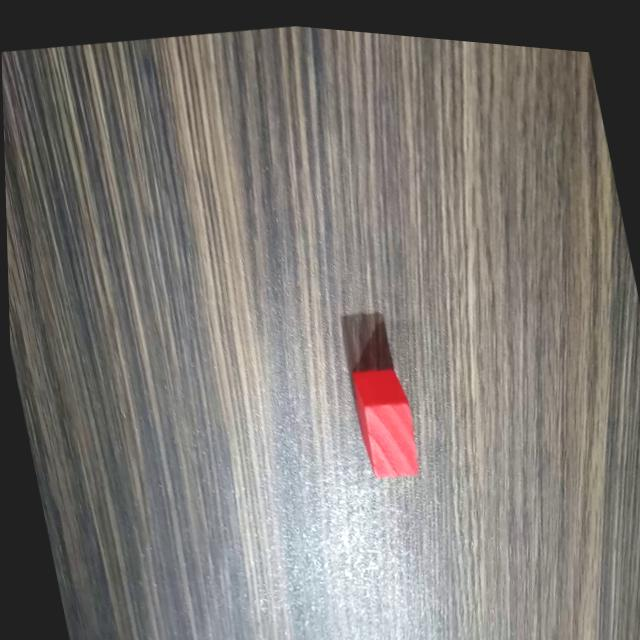cube: (344, 346, 426, 484)
